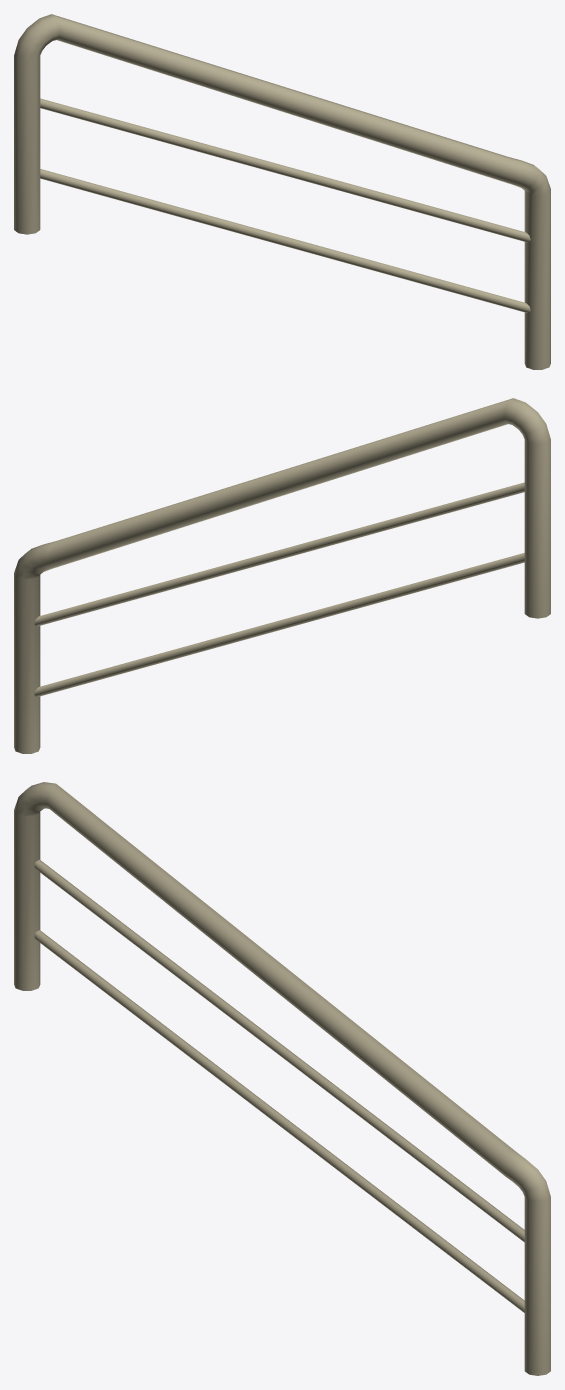
Rendered from SM_railing_01.glb.
3 renders of one model, top to bottom at view 1: azimuth 30°, elevation 25°; view 2: azimuth 150°, elevation 25°; view 3: azimuth 330°, elevation 25°, orthographic.
Parts seen in each view (by area): view 1: SM_railing_01; view 2: SM_railing_01; view 3: SM_railing_01.
Part boxes in pixels (x1,y1,x2,y2): SM_railing_01: (14,14,550,369); SM_railing_01: (14,398,550,753); SM_railing_01: (14,782,550,1375).
Size of the model in its own units: 2.3 by 1.93 by 0.1071.
